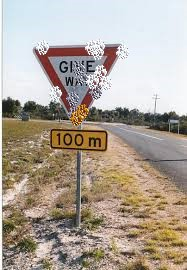giveway: (32, 42, 125, 122), (72, 45, 117, 124), (35, 44, 76, 121), (39, 51, 115, 92)
